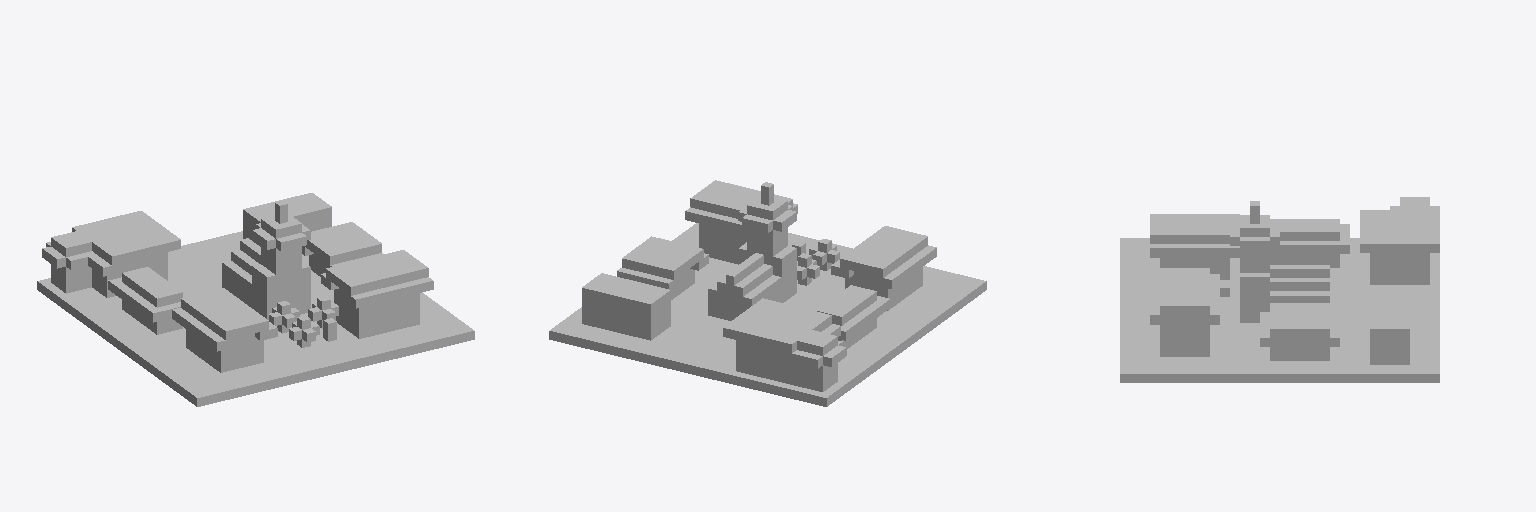
Rendered from Village.obj.
3 renders of one model, left to right at view 1: azimuth 30°, elevation 25°; view 2: azimuth 150°, elevation 25°; view 3: azimuth 270°, elevation 25°, orthographic.
Parts seen in each view (by area): view 1: object 1; view 2: object 1; view 3: object 1.
Boxes of the visible parts, <box> form: object 1: <box>37,193,474,406</box>; object 1: <box>549,180,986,406</box>; object 1: <box>1120,197,1439,382</box>.
Size of the model in its own units: 3.2 by 1.3 by 3.2.